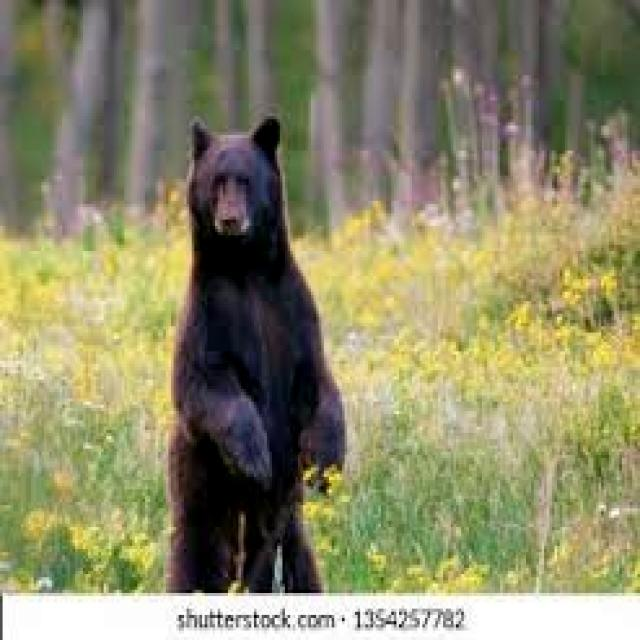bear: (176, 106, 348, 586)
